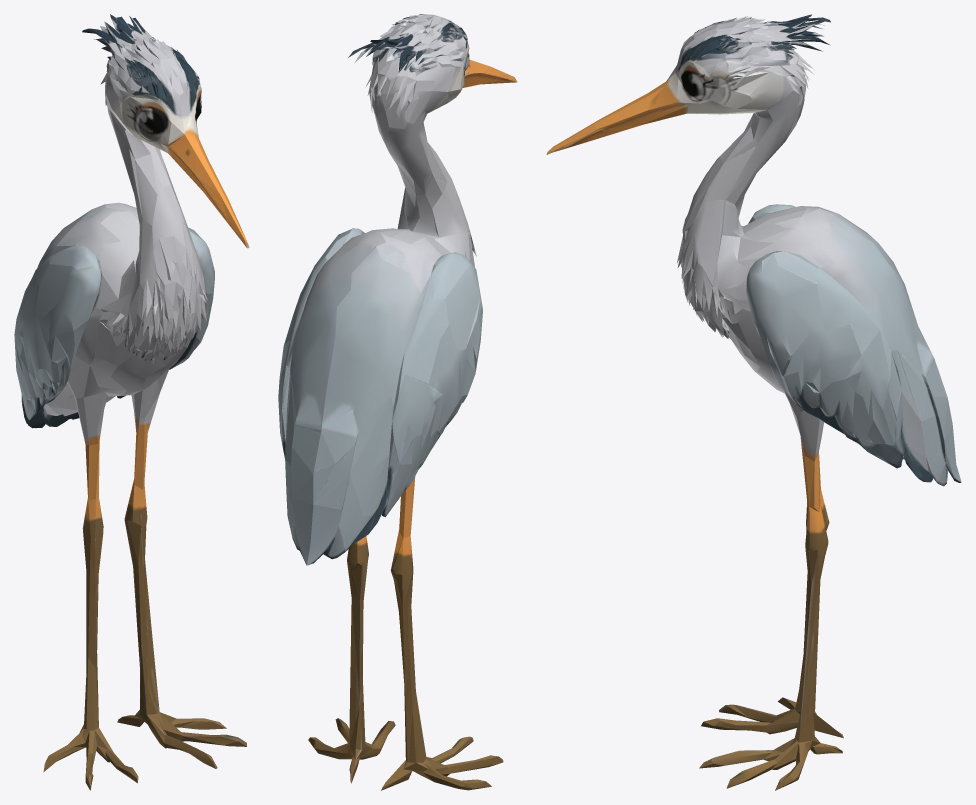
File: heron.glb
3 renders of one model, left to right at view 1: azimuth 30°, elevation 25°; view 2: azimuth 150°, elevation 25°; view 3: azimuth 270°, elevation 25°, orthographic.
Size of the model in its own units: 0.5009 by 1.9 by 0.9795.
1 material, 1 textured.
